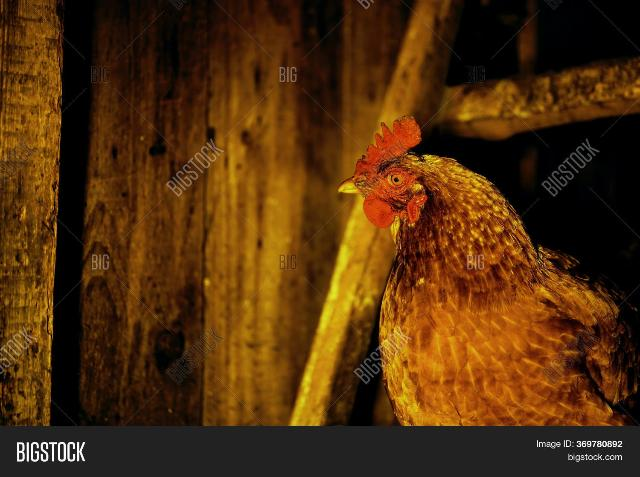Chicken: (336, 115, 640, 425)
